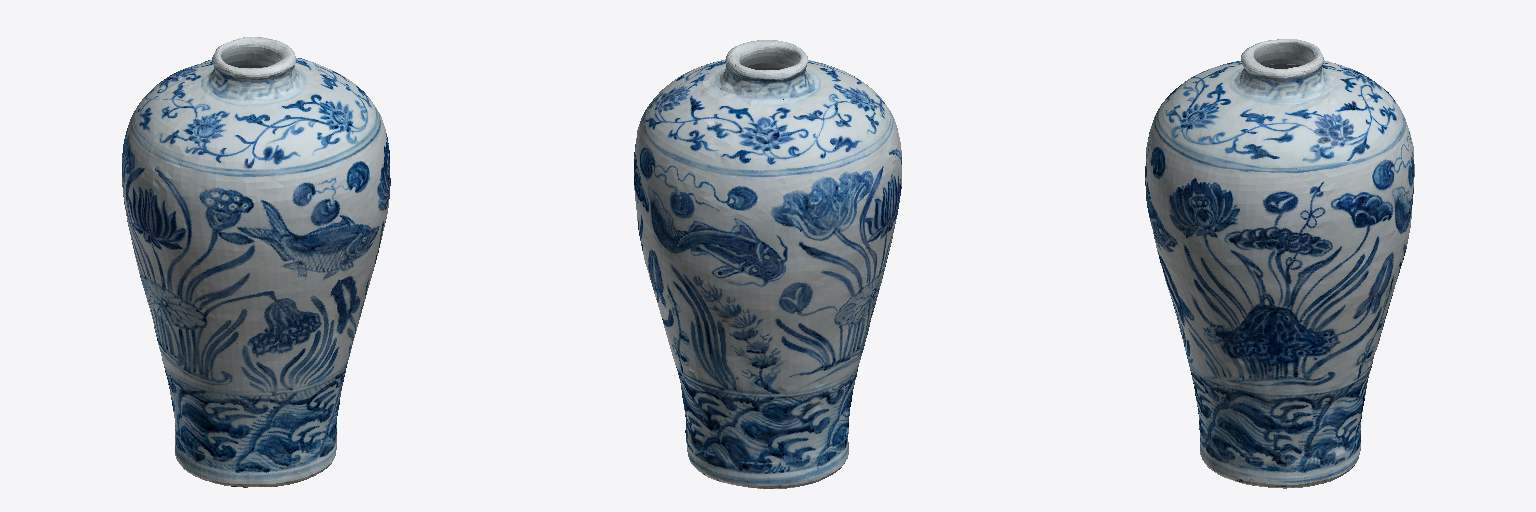
3 renders of one model, left to right at view 1: azimuth 30°, elevation 25°; view 2: azimuth 150°, elevation 25°; view 3: azimuth 270°, elevation 25°, orthographic.
Visible parts, largest first — view 1: J320; view 2: J320; view 3: J320.
Part boxes in pixels (left/top/right/bottom): J320: left=122, top=37, right=390, bottom=487; J320: left=634, top=40, right=901, bottom=488; J320: left=1145, top=39, right=1414, bottom=488.
Size of the model in its own units: 0.2168 by 0.3617 by 0.2179.
3 materials, 3 textured.